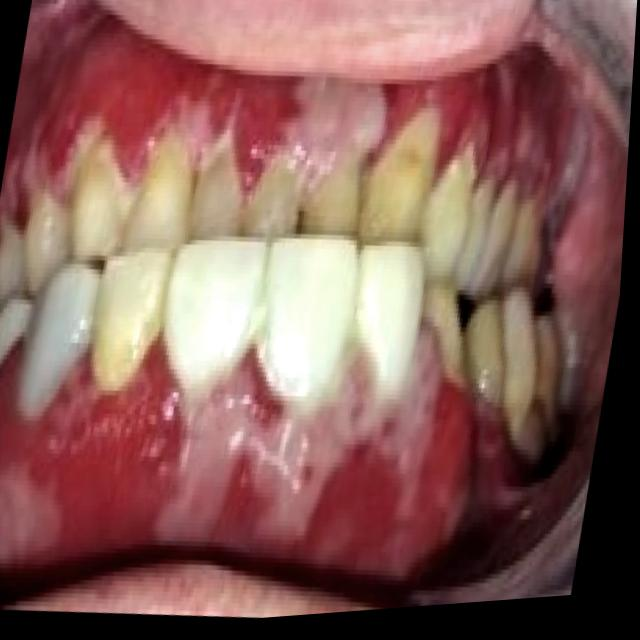gingivitis: (0, 330, 471, 591), (36, 38, 568, 190)
